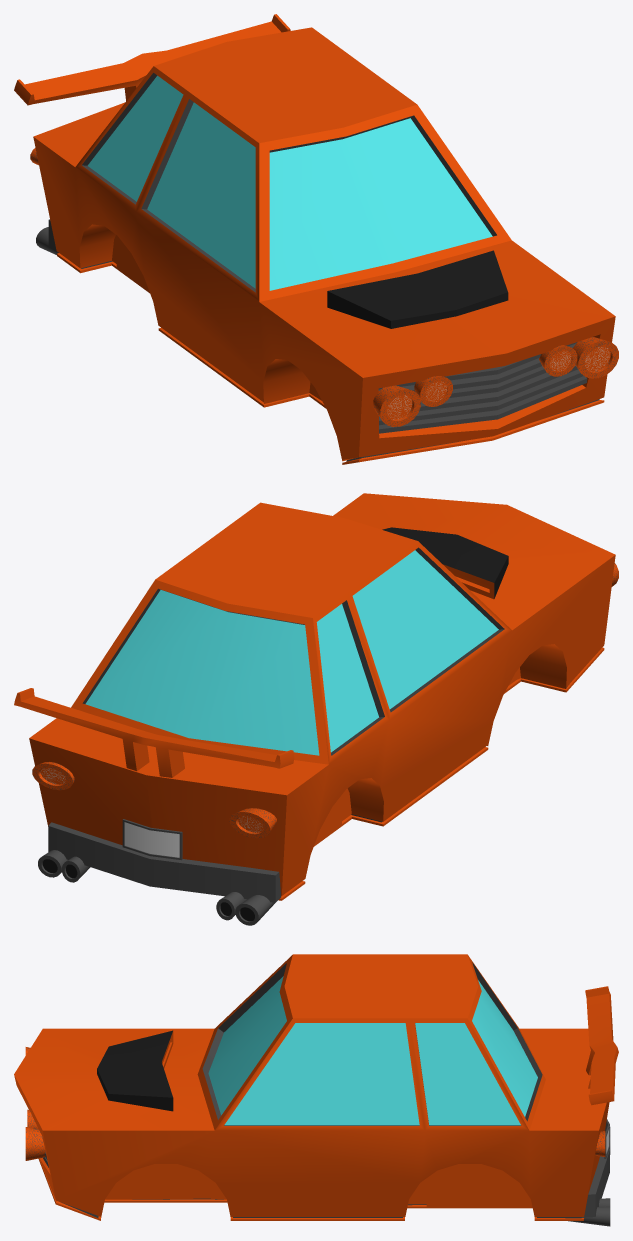
The model's file is Car2.fbx.
The picture shows the model from 3 angles, top to bottom: view 1: azimuth 30°, elevation 25°; view 2: azimuth 150°, elevation 25°; view 3: azimuth 270°, elevation 25°; orthographic projection. The views are drawn at different scales.
Parts seen in each view (by area): view 1: Car; view 2: Car; view 3: Car.
Boxes of the visible parts, box(x1,y1,x2,y2) form: Car: box(14, 14, 618, 464); Car: box(14, 493, 618, 925); Car: box(14, 954, 618, 1226).
Size of the model in its own units: 2.46 by 2.13 by 5.88.
